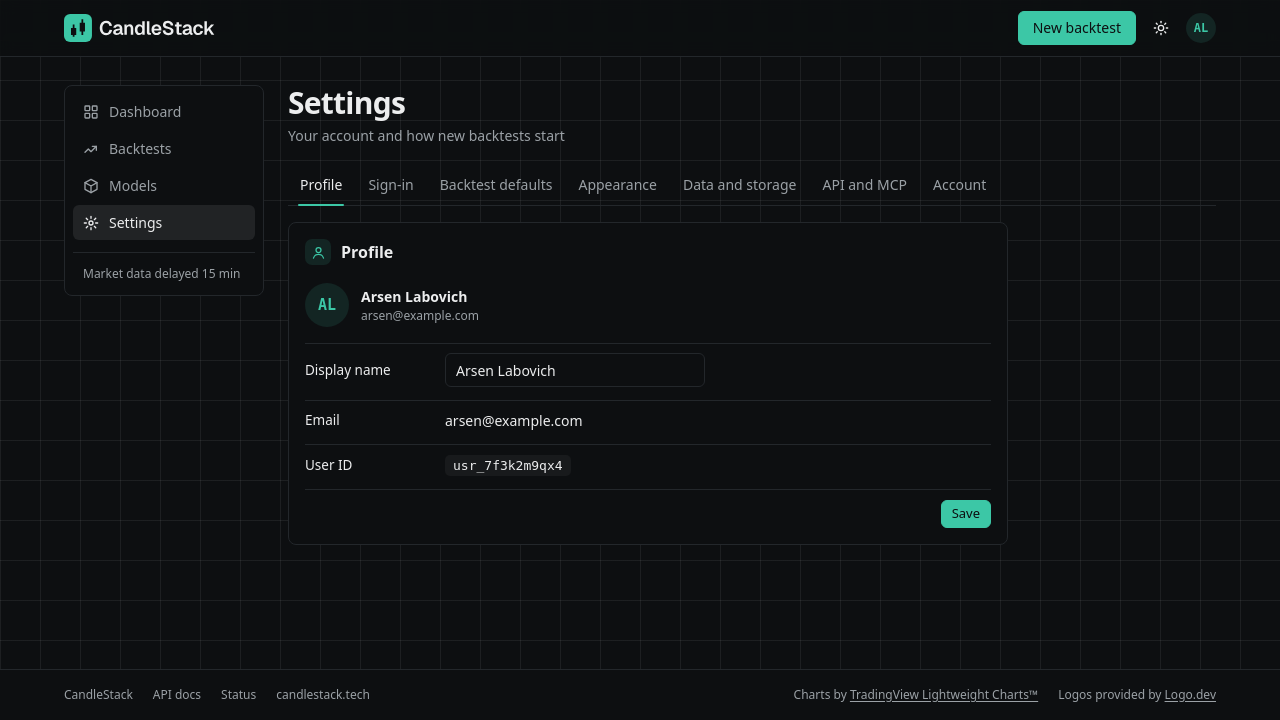
Profile › says in plain words when the API refuses the name, not in the API's
This screenshot has width=1280, height=720.
Step 1. Type " Jr" into the field named "Display name" → [575, 370], box [445, 353, 705, 387]
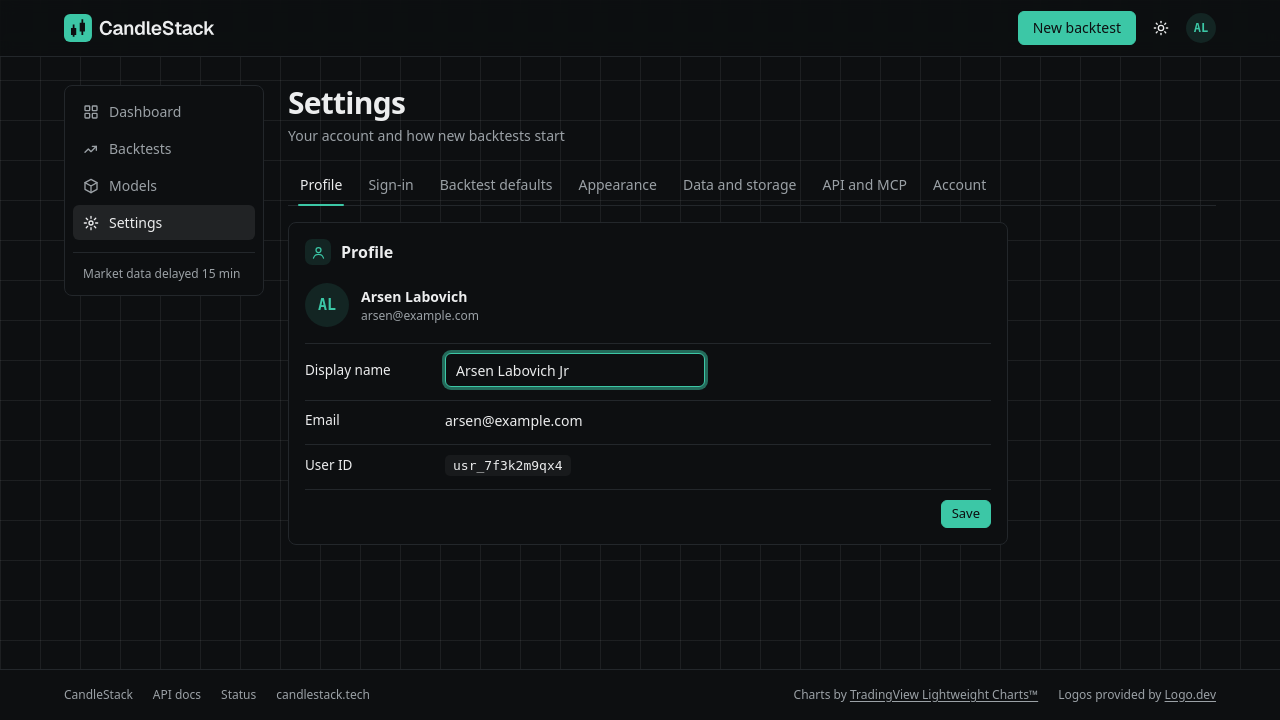
Step 2. Press Enter
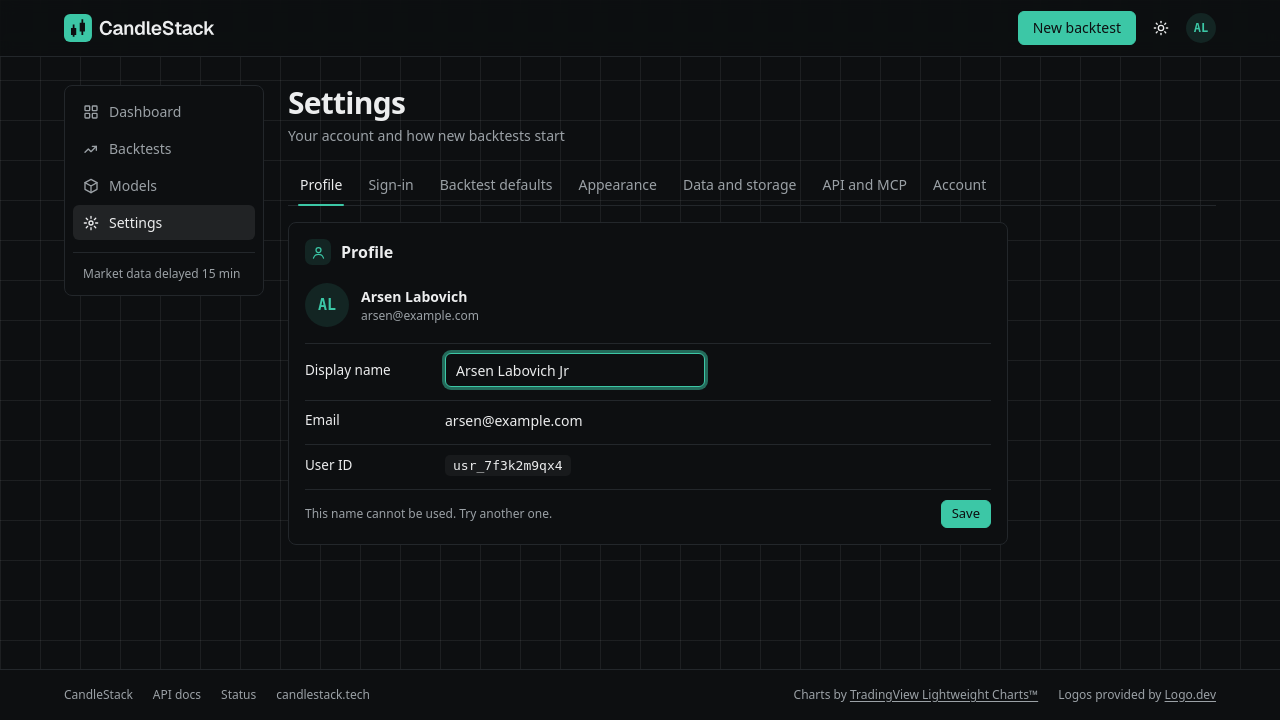
Expected: the message reads "This name cannot be used. Try another one.", [305, 504, 552, 522]
